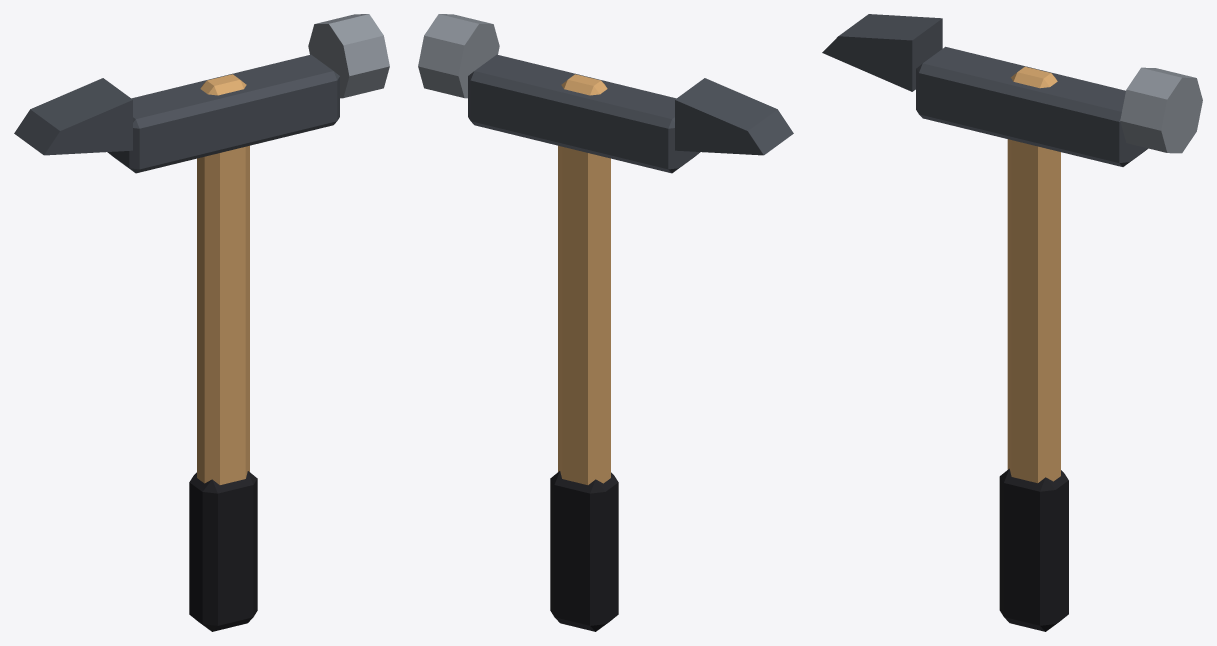
File: SM_Hammer.glb
3 renders of one model, left to right at view 1: azimuth 30°, elevation 25°; view 2: azimuth 150°, elevation 25°; view 3: azimuth 330°, elevation 25°, orthographic.
Parts seen in each view (by area): view 1: SM_Hammer; view 2: SM_Hammer; view 3: SM_Hammer.
Part boxes in pixels (box(x1,y1,x2,y2)): SM_Hammer: box(14, 14, 389, 631); SM_Hammer: box(418, 14, 793, 631); SM_Hammer: box(822, 14, 1202, 631).
Size of the model in its own units: 0.21 by 0.338 by 0.044.
1 material, 1 textured.
